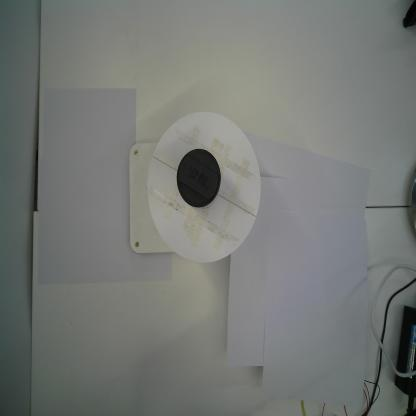Canned Food: (176, 147, 222, 210)
